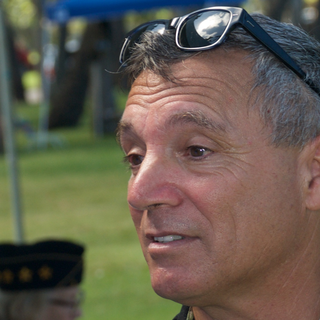eye: (174, 139, 222, 164), (120, 145, 149, 169)
